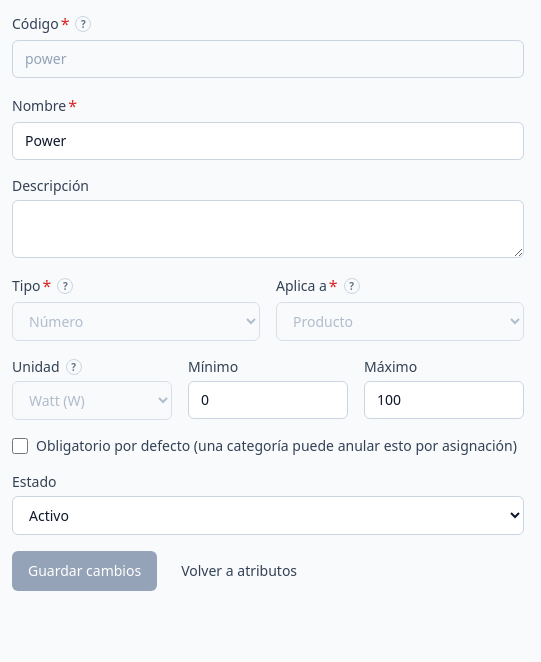
it: AttributeForm › edit: code / type / applies-to render disabled; PATCH sends only changed fields
Expected: the field labelled "Código" is disabled, [12, 40, 524, 78]
Expected: the dropdown labelled "Tipo" is disabled, [12, 302, 260, 341]
Replace the text in the field labelled "Nombre" with "Power draw": (268, 141) [12, 122, 524, 160]
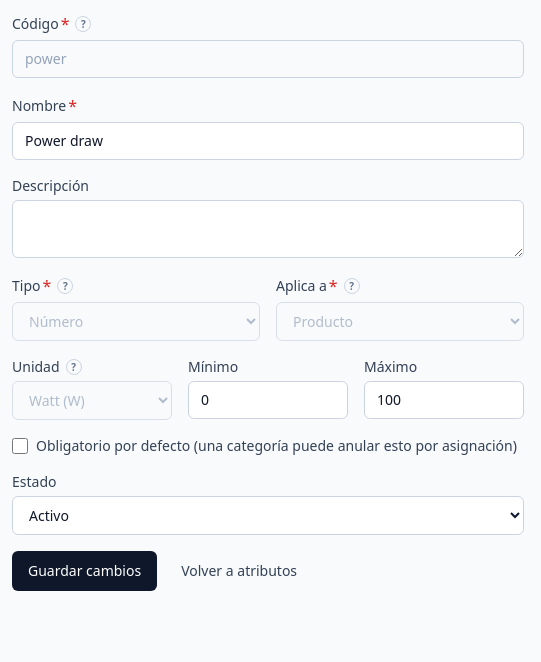
Click the button "Guardar cambios": (85, 571) [12, 551, 157, 591]
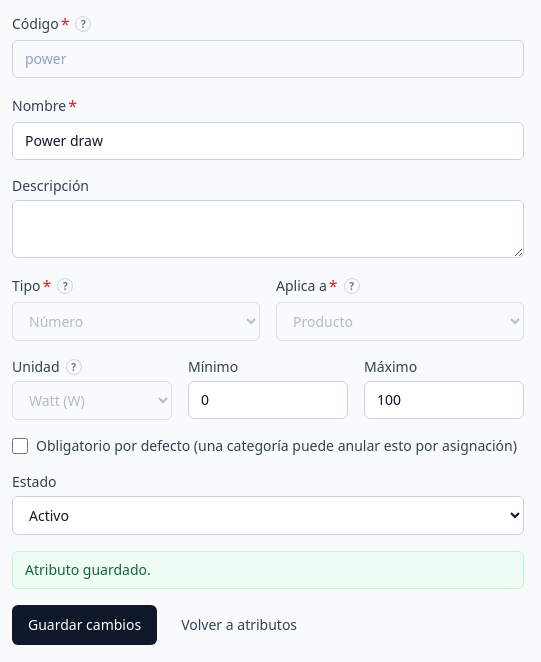
Expected: the text "Atributo guardado." is shown, [25, 560, 151, 579]
